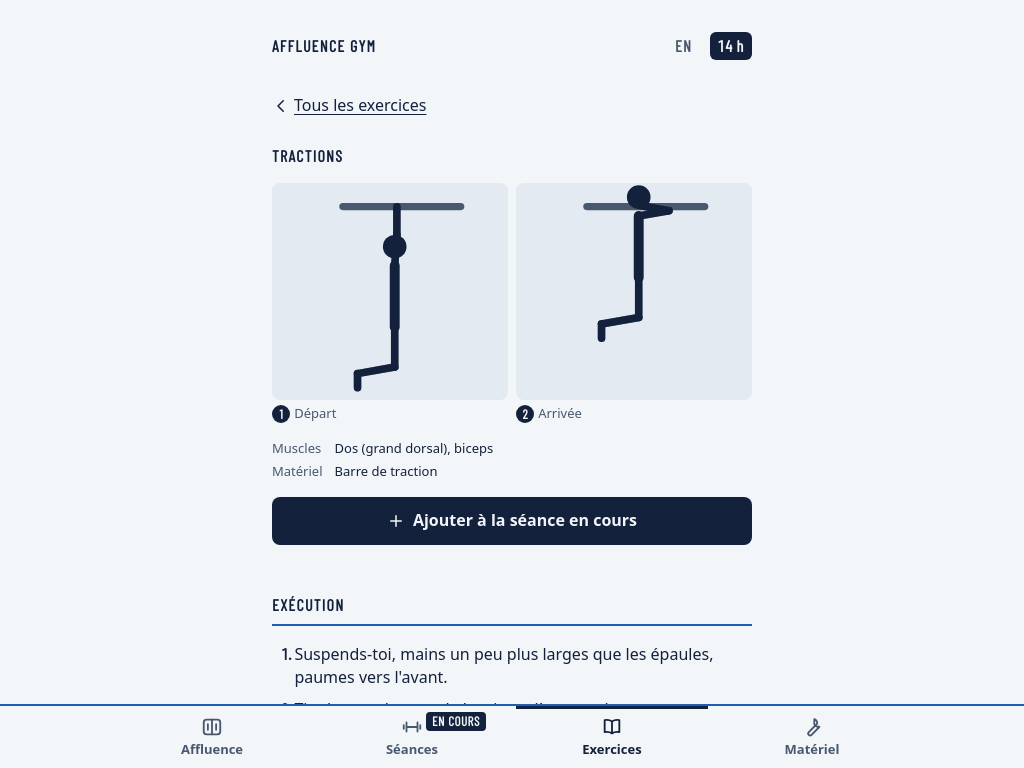
Test: bibliothèque › ajoute l'exercice à la séance en cours
Click the button "Ajouter à la séance en cours" at (512, 521), box [272,497,752,545]
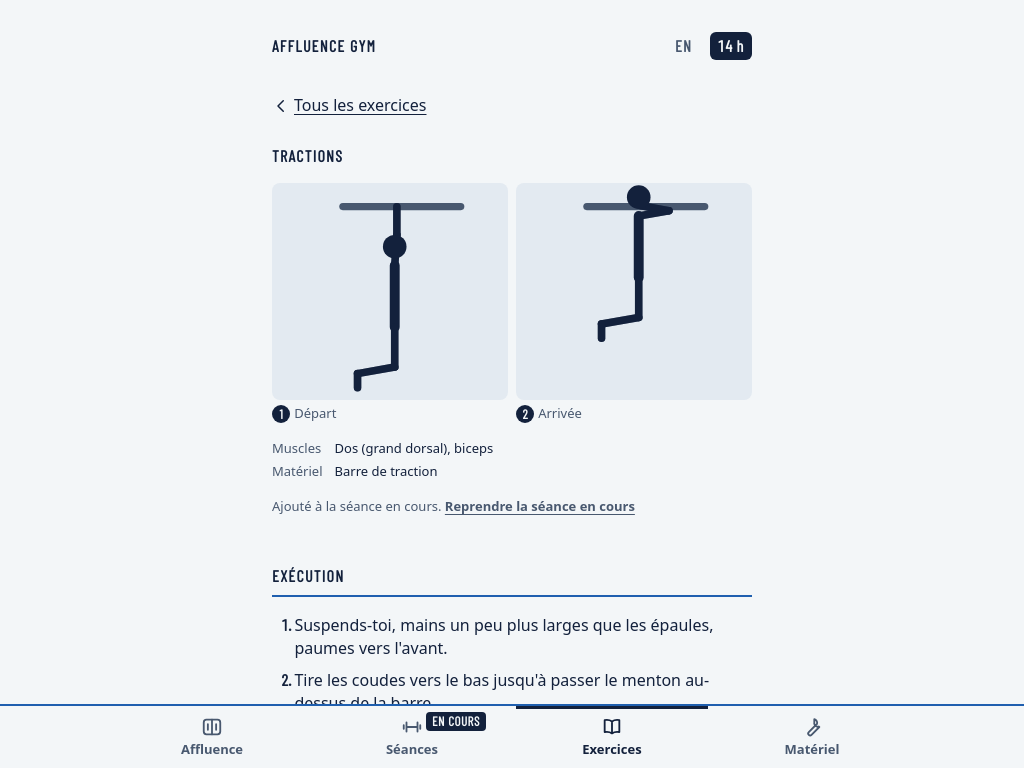
Check: the message shows "Ajouté à la séance en cours.", box [272,497,442,515]
